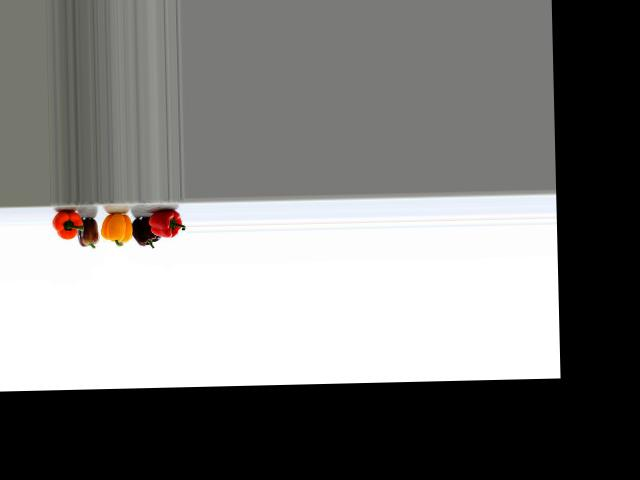bell_pepper: (51, 206, 84, 249)
